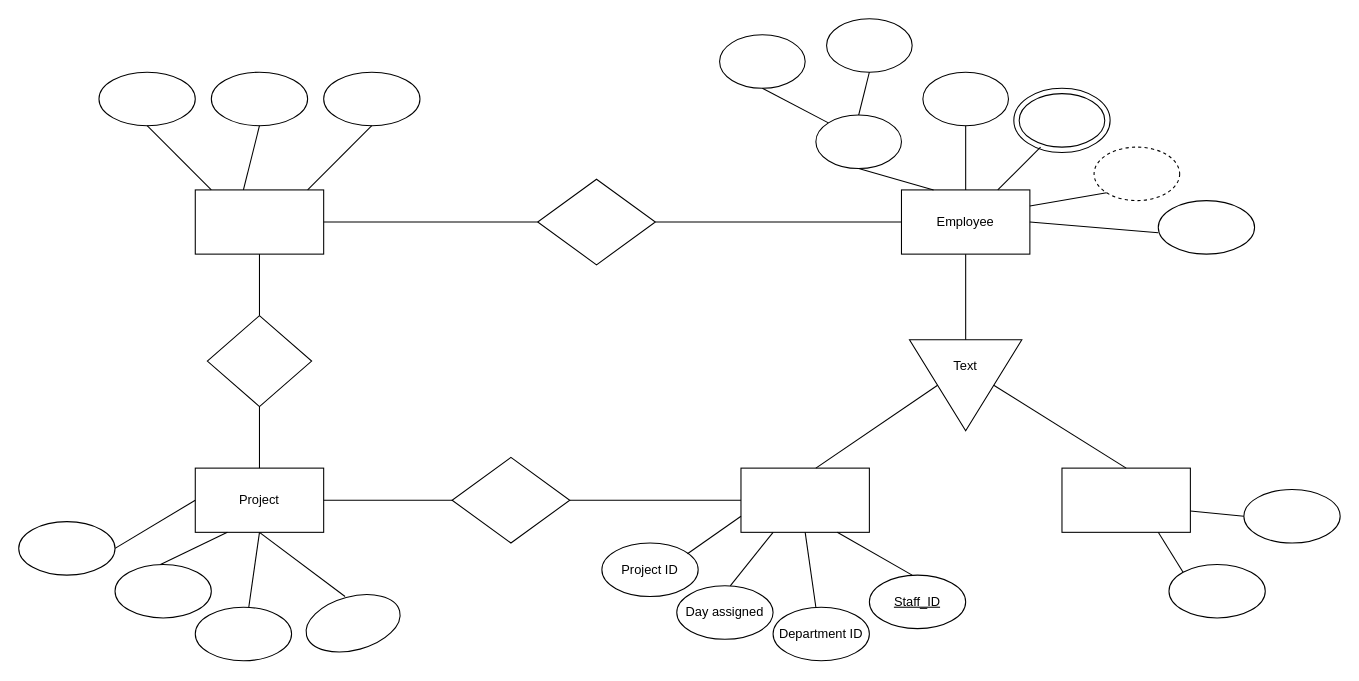
The diagram is 1359 pixels wide and 681 high, and some of its shapes have lost their labels. The centre of each missing label's shape, as x and y in pixels:
Department: (259,221)
Staff: (804,499)
Supervisor: (1125,499)
